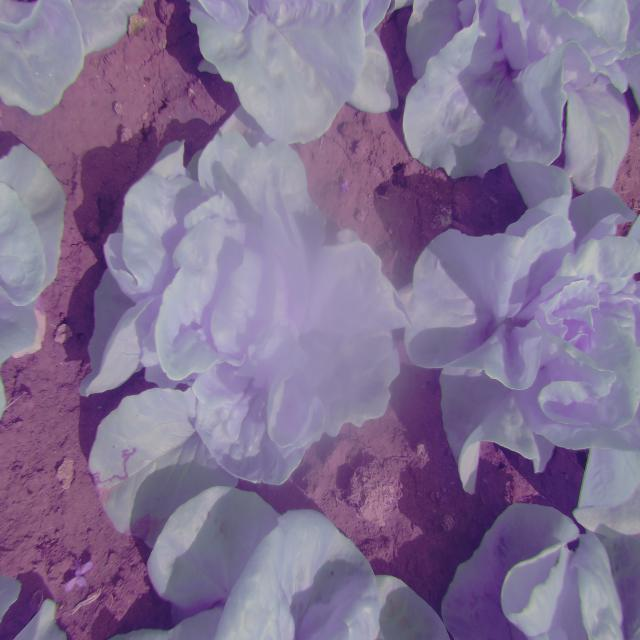vege: (88, 117, 402, 473)
